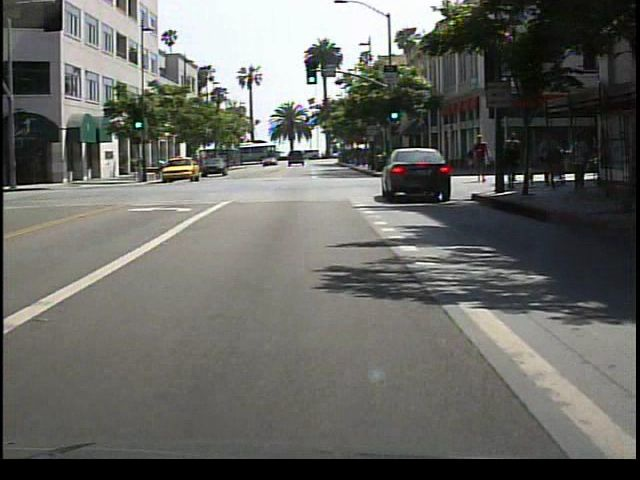person: (470, 132, 496, 188)
